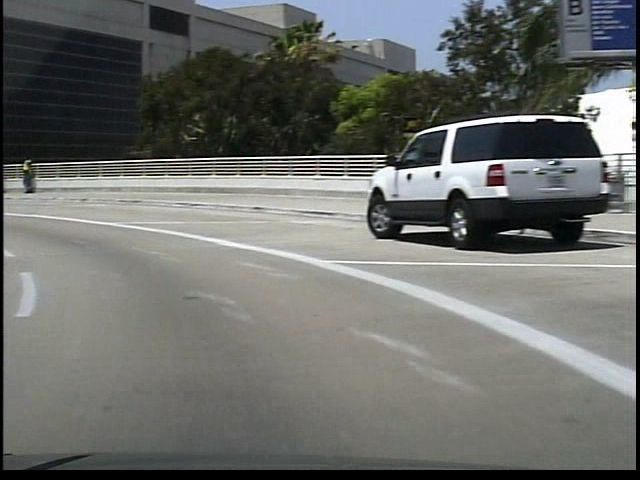person: (16, 155, 33, 196)
